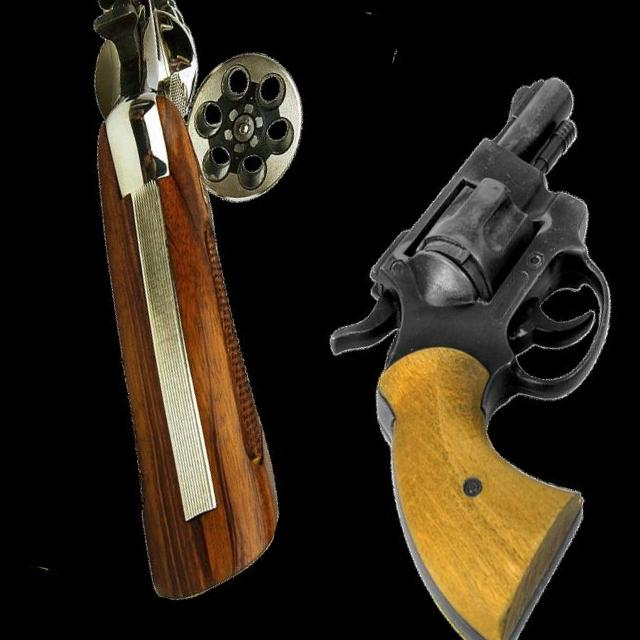Gun: (330, 77, 609, 640), (94, 0, 303, 599)
